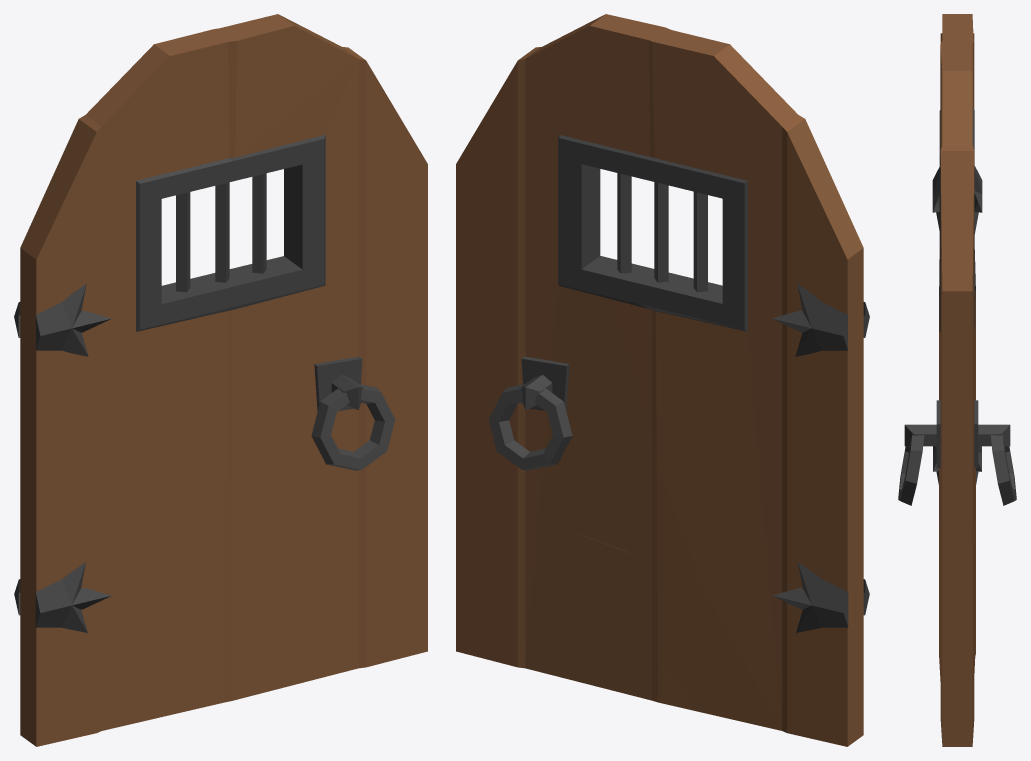
The model's file is door-wood_shattered.fbx.
3 renders of one model, left to right at view 1: azimuth 30°, elevation 25°; view 2: azimuth 150°, elevation 25°; view 3: azimuth 270°, elevation 25°, orthographic. The views are drawn at different scales.
Parts seen in each view (by area): view 1: door-wood, door-wood_cell.008, door-wood_cell.003, door-wood_cell.005, door-wood_cell.007, door-wood_cell.006; view 2: door-wood_cell.007, door-wood, door-wood_cell.003, door-wood_cell.008, door-wood_cell.005, door-wood_cell.002, door-wood_cell.013, door-wood_cell.020, door-wood_cell.015, door-wood_cell.018, door-wood_cell.017, door-wood_cell.019 (+1 smaller); view 3: door-wood, door-wood_cell.003, door-wood_cell.007, door-wood_cell.008, door-wood_cell.013, door-wood_cell.006, door-wood_cell.010, door-wood_cell.020, door-wood_cell.012, door-wood_cell.004.
Part boxes in pixels (x1,y1,x2,y2): door-wood: (14,14,427,746); door-wood_cell.008: (232,484,427,700); door-wood_cell.003: (232,219,418,552); door-wood_cell.005: (20,537,36,746); door-wood_cell.007: (20,15,357,500); door-wood_cell.006: (311,384,388,464); door-wood_cell.007: (494,15,863,506); door-wood: (456,14,869,736); door-wood_cell.003: (456,100,697,575); door-wood_cell.008: (483,516,800,736); door-wood_cell.005: (765,479,863,746); door-wood_cell.002: (599,274,796,592); door-wood_cell.013: (488,384,572,470); door-wood_cell.020: (772,283,847,356); door-wood_cell.015: (772,562,847,632); door-wood_cell.018: (654,182,668,282); door-wood_cell.017: (693,191,707,292); door-wood_cell.019: (617,173,631,271); door-wood: (898,14,1013,746); door-wood_cell.003: (939,204,975,586); door-wood_cell.007: (940,33,975,304); door-wood_cell.008: (939,519,975,742); door-wood_cell.013: (990,434,1016,505); door-wood_cell.006: (900,434,924,490); door-wood_cell.010: (936,400,978,468); door-wood_cell.020: (974,166,982,234); door-wood_cell.012: (978,425,1010,446); door-wood_cell.004: (905,424,936,446).
Bounding box in the file's own units: 140 × 225 × 39.29.
